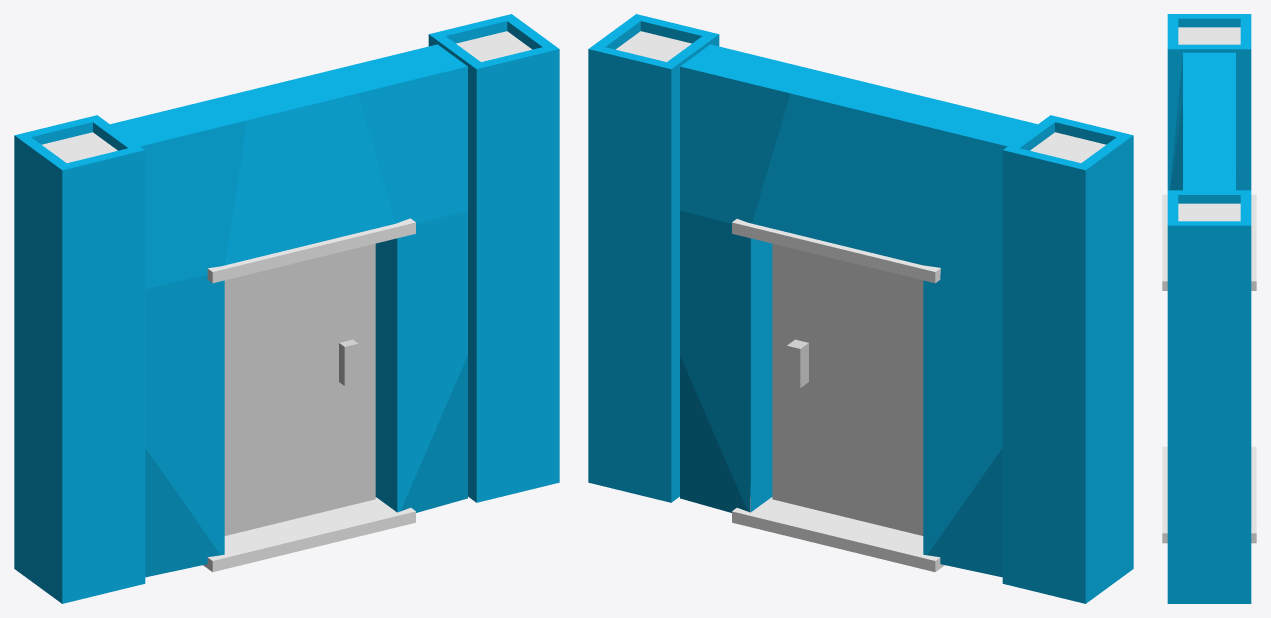
The model's file is walldoor.fbx.
3 views of the same model, side by side, from view 1: azimuth 30°, elevation 25°; view 2: azimuth 150°, elevation 25°; view 3: azimuth 270°, elevation 25° (orthographic). The views are drawn at different scales.
Parts seen in each view (by area): view 1: Cube, Cube.001; view 2: Cube, Cube.001; view 3: Cube.
Part boxes in pixels (x1,y1,x2,y2): Cube: (14, 14, 559, 603); Cube.001: (224, 243, 375, 535); Cube: (588, 14, 1133, 603); Cube.001: (772, 243, 923, 535); Cube: (1162, 14, 1256, 603).
Bounding box in the file's own units: 1200 × 1005 × 227.
